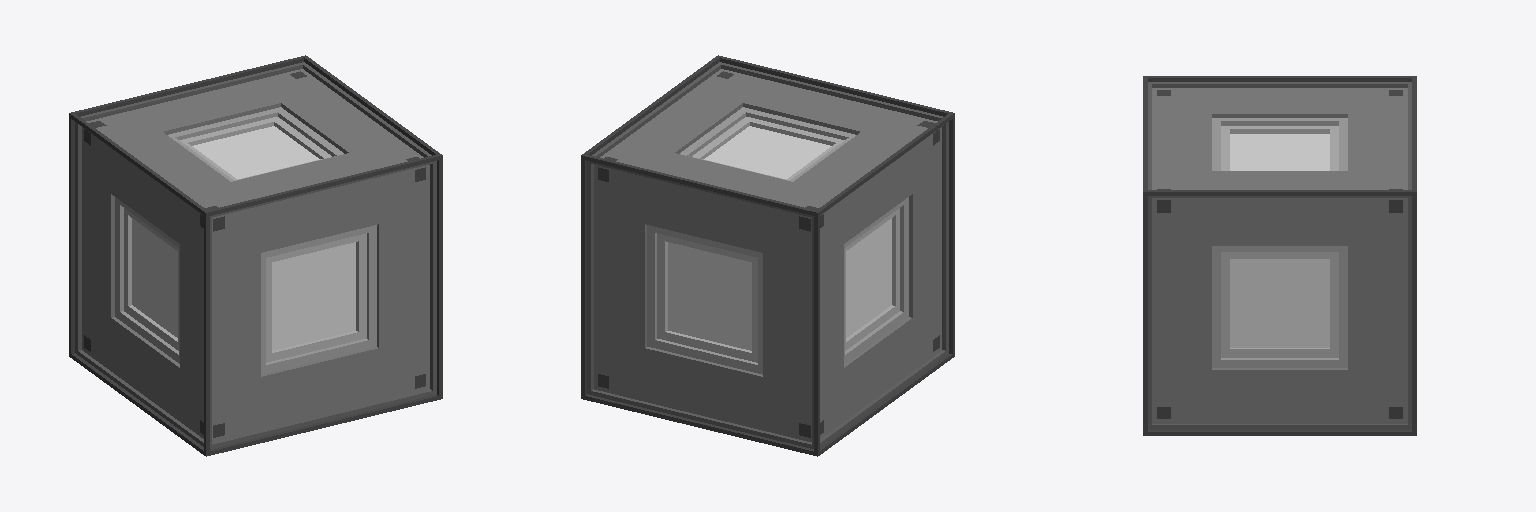
3 renders of one model, left to right at view 1: azimuth 30°, elevation 25°; view 2: azimuth 150°, elevation 25°; view 3: azimuth 270°, elevation 25°, orthographic.
Parts seen in each view (by area): view 1: object 1; view 2: object 1; view 3: object 1.
Part boxes in pixels (left/top/right/bottom): object 1: left=69, top=55, right=442, bottom=456; object 1: left=581, top=55, right=954, bottom=456; object 1: left=1143, top=76, right=1416, bottom=435.
Bounding box in the file's own units: 6 × 5.9 × 6.
Materials: 1 (1 with a texture image).